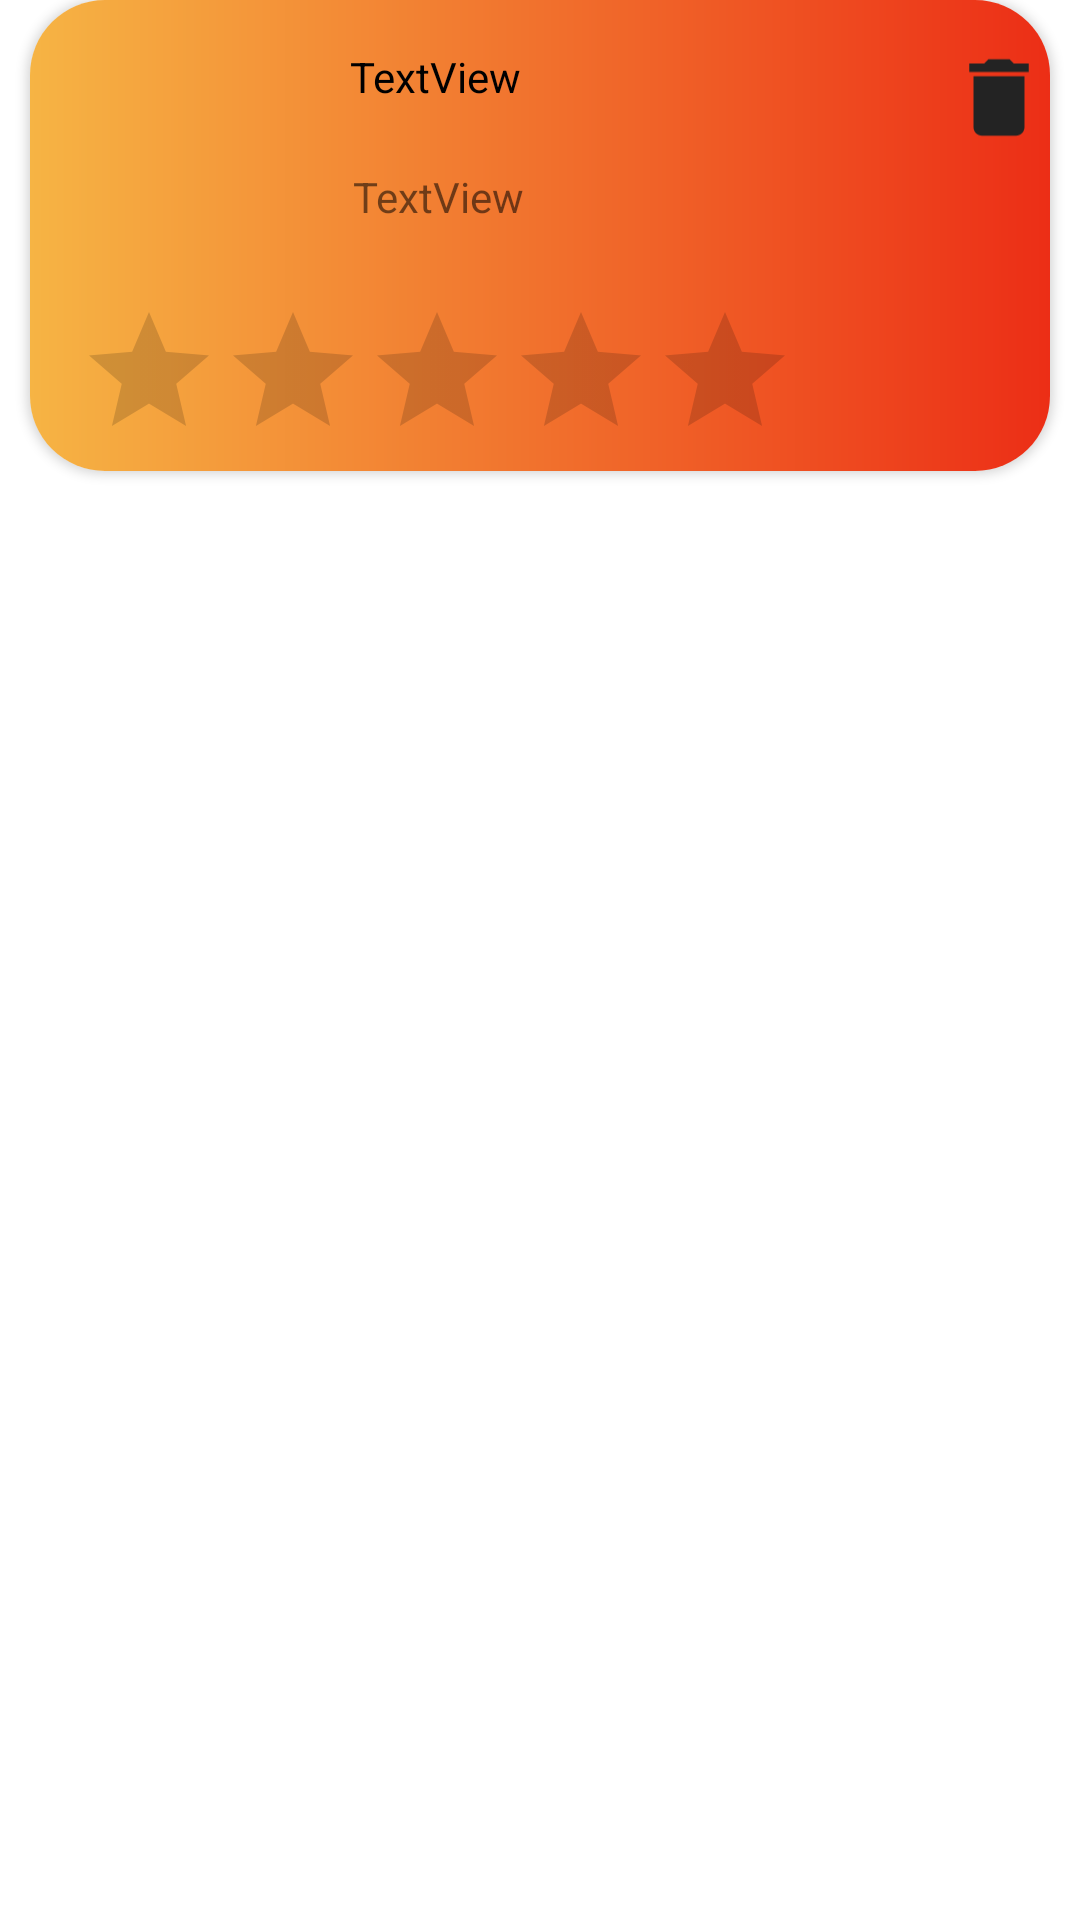

Point at icon controls on the screen. Image size 1080×1920, points as [x,y].
delete: [999,97]
